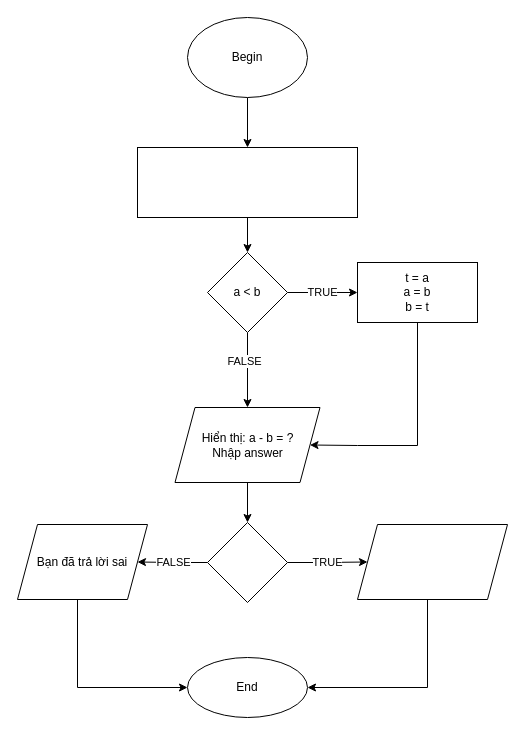
Some shapes in this 525 by 735 pixel diagram are drawn without their labels. The shapes that lost their labels are listed below. From the top down, each one's centre as x and y in pixels, then its label:
At point (247, 182): "a = (int)(Math.random() * 10 ) b = (int)(Math.random() * 10)".
At point (247, 562): "a - b == answer".
At point (432, 562): "Bạn đã trả lời dúng".
